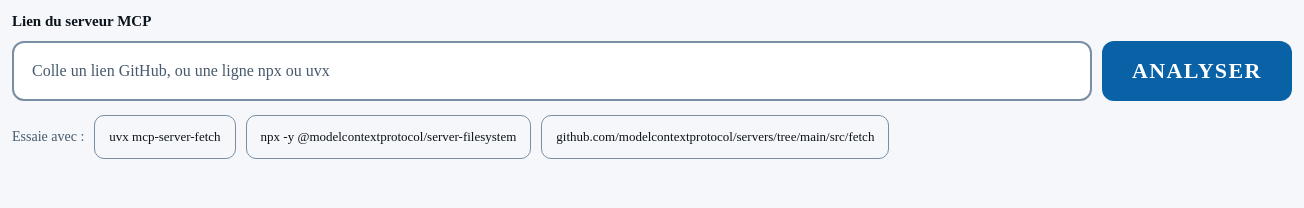
Test: analysis field of the home page › says the queue is full on 503
Type "uvx mcp-server-fetch" into the field labelled "Lien du serveur MCP" at (552, 70), box [12, 40, 1092, 100]
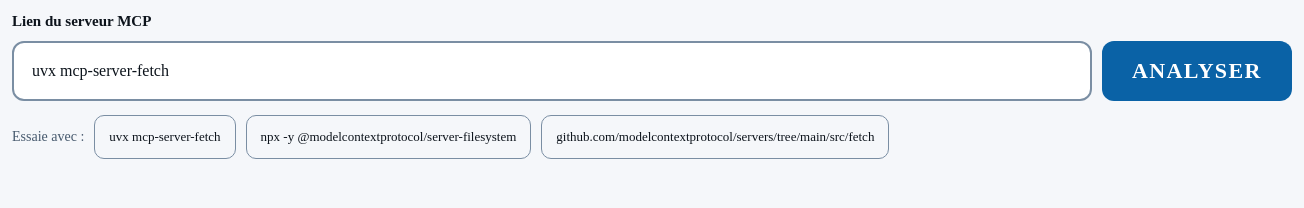
Click the button "ANALYSER" at (1197, 70), box [1102, 40, 1292, 100]
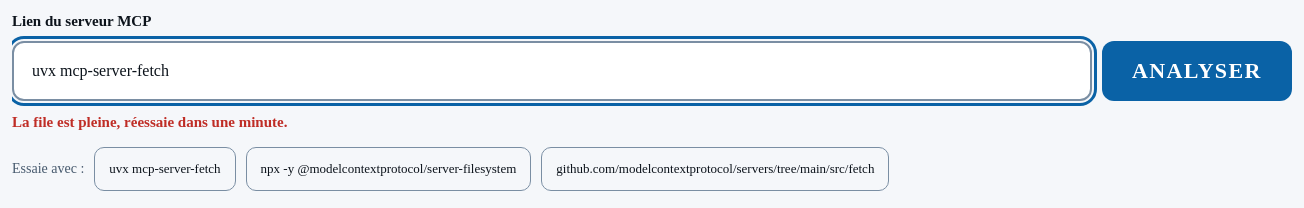
Now the element with id "home-error" reads "La file est pleine, réessaie dans une minute.", box [12, 114, 287, 130]
